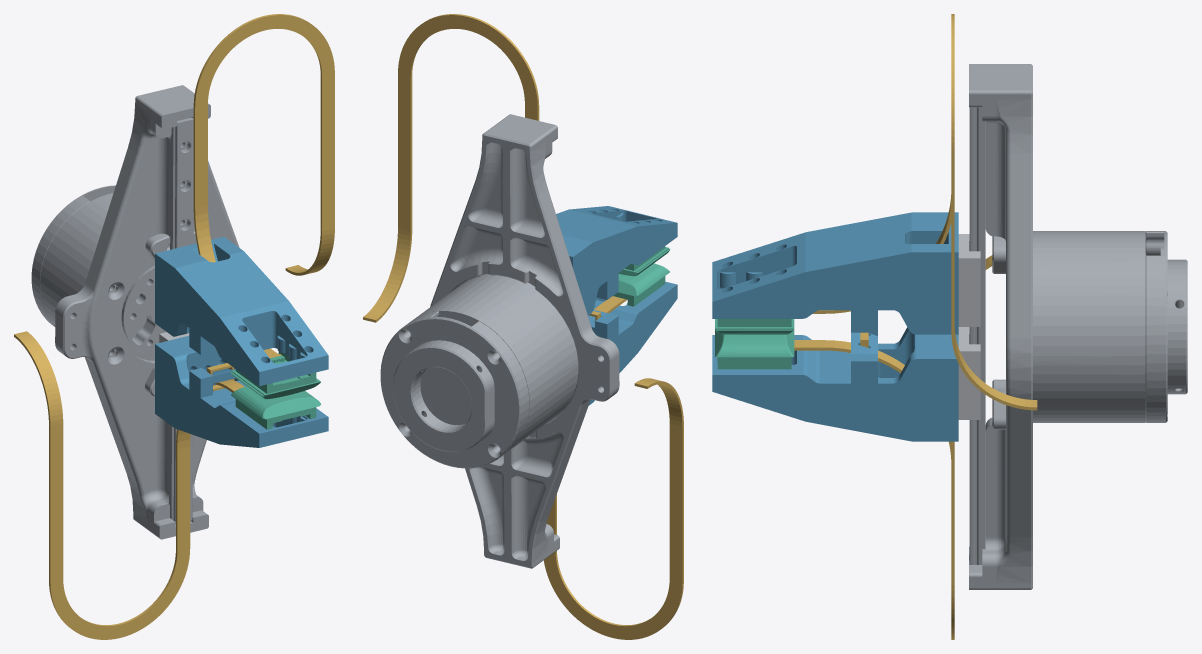
File: assembly_open0.glb
The picture shows the model from 3 angles, left to right: view 1: azimuth 30°, elevation 25°; view 2: azimuth 150°, elevation 25°; view 3: azimuth 270°, elevation 25°; orthographic projection. The views are drawn at different scales.
Parts seen in each view (by area): view 1: original_actuator_and_transmission, replacement_finger_2, replacement_finger_1, service_loop_envelope_1, service_loop_envelope_2, M2324_1, M2324_2, moving_harness_envelope_2, moving_harness_envelope_1; view 2: original_actuator_and_transmission, replacement_finger_2, service_loop_envelope_2, service_loop_envelope_1, replacement_finger_1, M2324_1, M2324_2; view 3: original_actuator_and_transmission, replacement_finger_2, replacement_finger_1, M2324_1, service_loop_envelope_2, retained_carrier_2, retained_carrier_1, M2324_2, moving_harness_envelope_1, service_loop_envelope_1.
Part boxes in pixels (<box>): original_actuator_and_transmission: <box>31,85,239,539</box>; replacement_finger_2: <box>155,237,328,386</box>; replacement_finger_1: <box>155,336,328,447</box>; service_loop_envelope_1: <box>14,331,190,639</box>; service_loop_envelope_2: <box>193,14,334,275</box>; M2324_1: <box>231,386,321,429</box>; M2324_2: <box>231,351,320,399</box>; moving_harness_envelope_2: <box>193,205,277,356</box>; moving_harness_envelope_1: <box>176,379,244,449</box>; original_actuator_and_transmission: <box>380,114,619,568</box>; replacement_finger_2: <box>556,206,677,315</box>; service_loop_envelope_2: <box>363,14,539,322</box>; service_loop_envelope_1: <box>544,378,683,639</box>; replacement_finger_1: <box>588,281,677,405</box>; M2324_1: <box>613,263,669,306</box>; M2324_2: <box>618,246,670,276</box>; original_actuator_and_transmission: <box>969,64,1187,589</box>; replacement_finger_2: <box>712,212,958,334</box>; replacement_finger_1: <box>712,327,958,441</box>; M2324_1: <box>715,329,794,369</box>; service_loop_envelope_2: <box>951,14,1037,410</box>; retained_carrier_2: <box>958,234,980,326</box>; retained_carrier_1: <box>958,327,980,419</box>; M2324_2: <box>715,289,794,334</box>; moving_harness_envelope_1: <box>794,340,954,464</box>; service_loop_envelope_1: <box>951,255,992,639</box>.
Bounding box in the file's own units: 0.1152 × 0.2266 × 0.1412.
